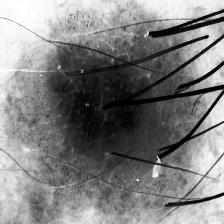Benign Marking or Mole: (50, 25, 152, 163)
